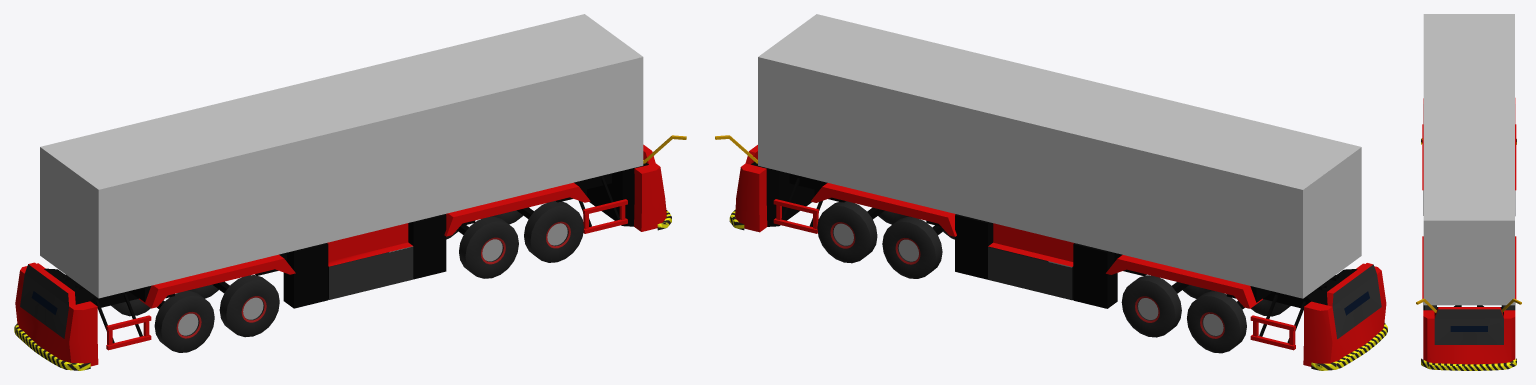
The model's file is SM_AIV_FullLoad_002.fbx.
3 renders of one model, left to right at view 1: azimuth 30°, elevation 25°; view 2: azimuth 150°, elevation 25°; view 3: azimuth 270°, elevation 25°, orthographic. The views are drawn at different scales.
Visible parts, largest first — view 1: SM_AIV_FullLoad_002; view 2: SM_AIV_FullLoad_002; view 3: SM_AIV_FullLoad_002.
Boxes of the visible parts, box(x1,y1,x2,y2) form: SM_AIV_FullLoad_002: box(14, 14, 686, 370); SM_AIV_FullLoad_002: box(715, 14, 1387, 370); SM_AIV_FullLoad_002: box(1416, 14, 1521, 370).
Bounding box in the file's own units: 15.48 × 4.43 × 2.95.
